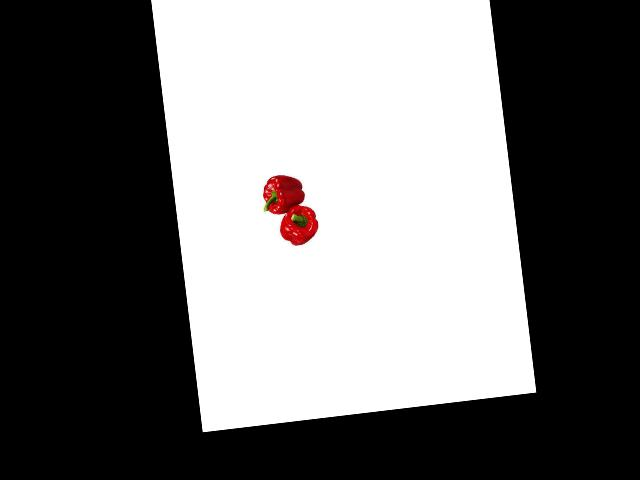bell_pepper: (258, 171, 309, 217)
